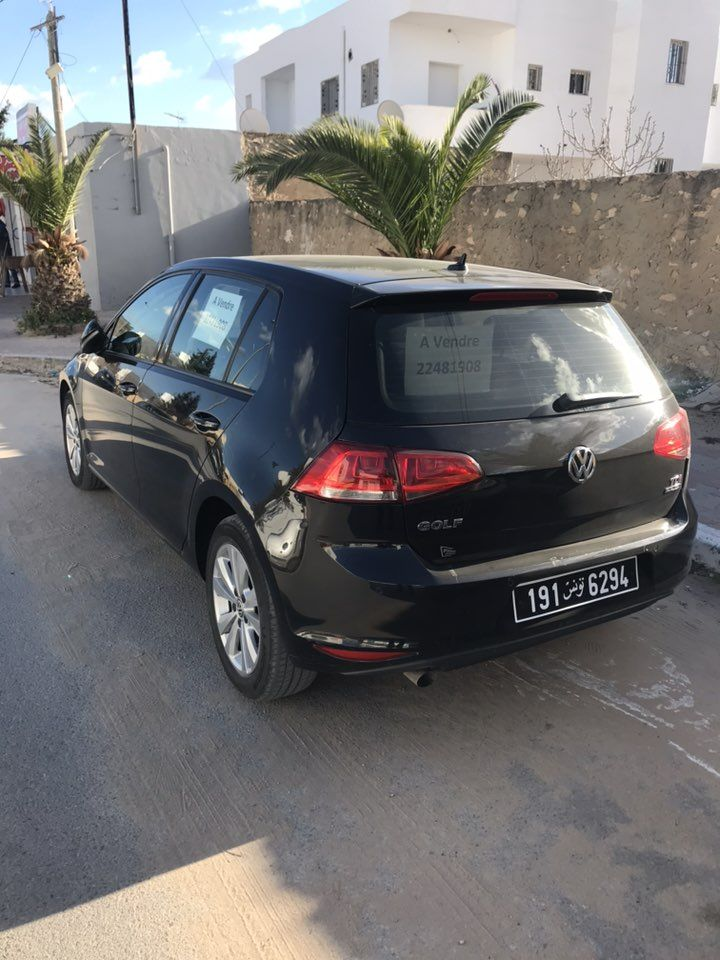LP: (509, 556, 642, 622)
